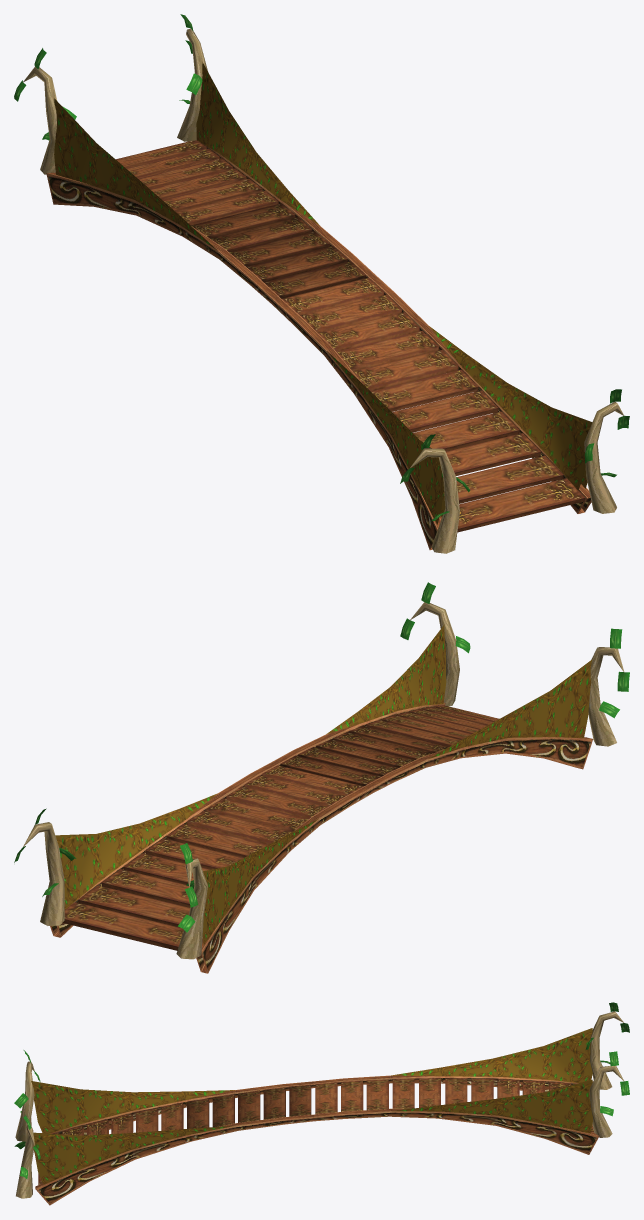
The model's file is EKH_GROTTO_PS_GR_BRIDGE_4836__GX.fbx.
The picture shows the model from 3 angles, top to bottom: view 1: azimuth 30°, elevation 25°; view 2: azimuth 150°, elevation 25°; view 3: azimuth 270°, elevation 25°; orthographic projection. The views are drawn at different scales.
Visible parts, largest first — view 1: EKH_GROTTO_PS_GR_BRIDGE_4836__GX; view 2: EKH_GROTTO_PS_GR_BRIDGE_4836__GX; view 3: EKH_GROTTO_PS_GR_BRIDGE_4836__GX.
Boxes of the visible parts, <box> form: EKH_GROTTO_PS_GR_BRIDGE_4836__GX: <box>14,14,629,553</box>; EKH_GROTTO_PS_GR_BRIDGE_4836__GX: <box>14,582,629,973</box>; EKH_GROTTO_PS_GR_BRIDGE_4836__GX: <box>14,1002,629,1205</box>.
Bounding box in the file's own units: 29333 × 25841 × 95350.
Materials: 5 (5 with a texture image).
